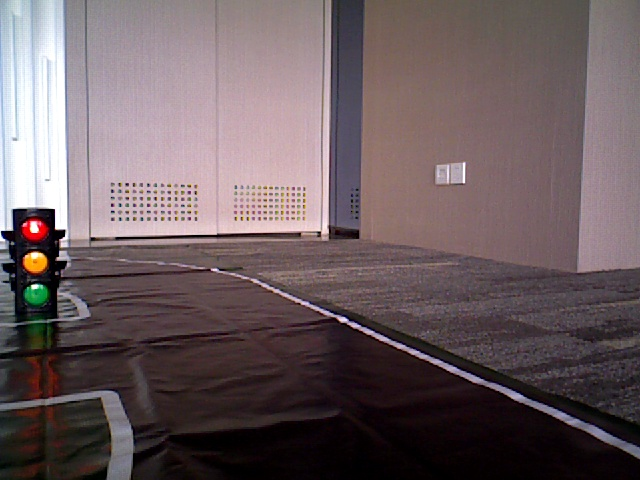red: (14, 213, 52, 311)
